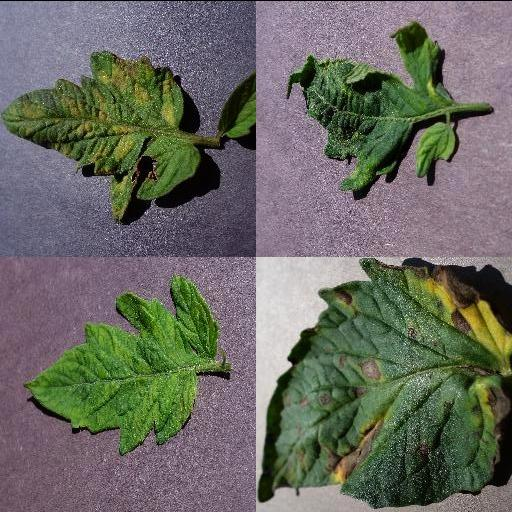Early Blight: (258, 256, 512, 505)
Leaf Mold: (0, 50, 203, 223)
Mosaic Virus: (23, 276, 219, 456), (285, 20, 457, 194)
